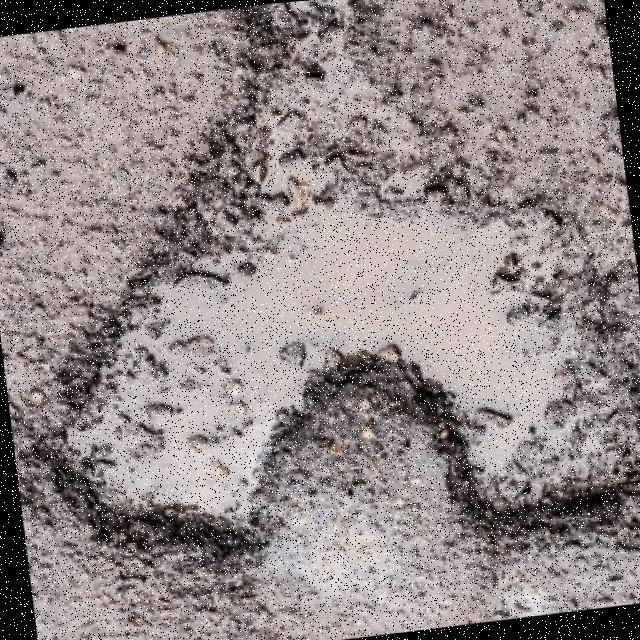Pothole: (31, 0, 640, 558)
